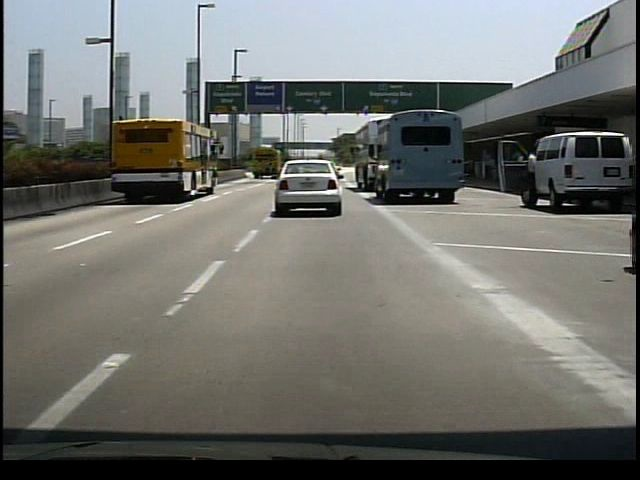person: (523, 138, 541, 215)
